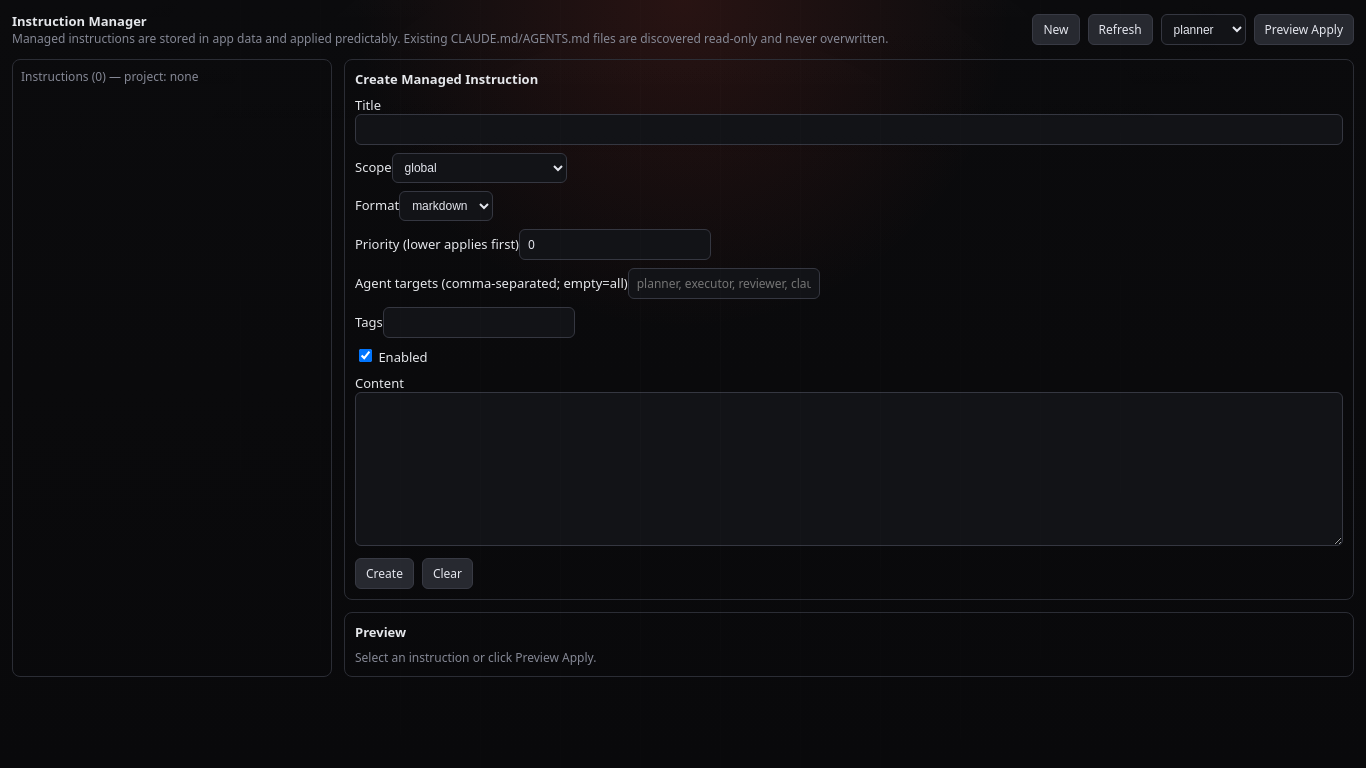
it: InstructionManager › validates required title (backend error surfaced)
Expected: the text "Instructions (0) — project: none" is shown, [21,68,198,85]
Click the button "Create" at [384, 574], box [355,558,414,589]
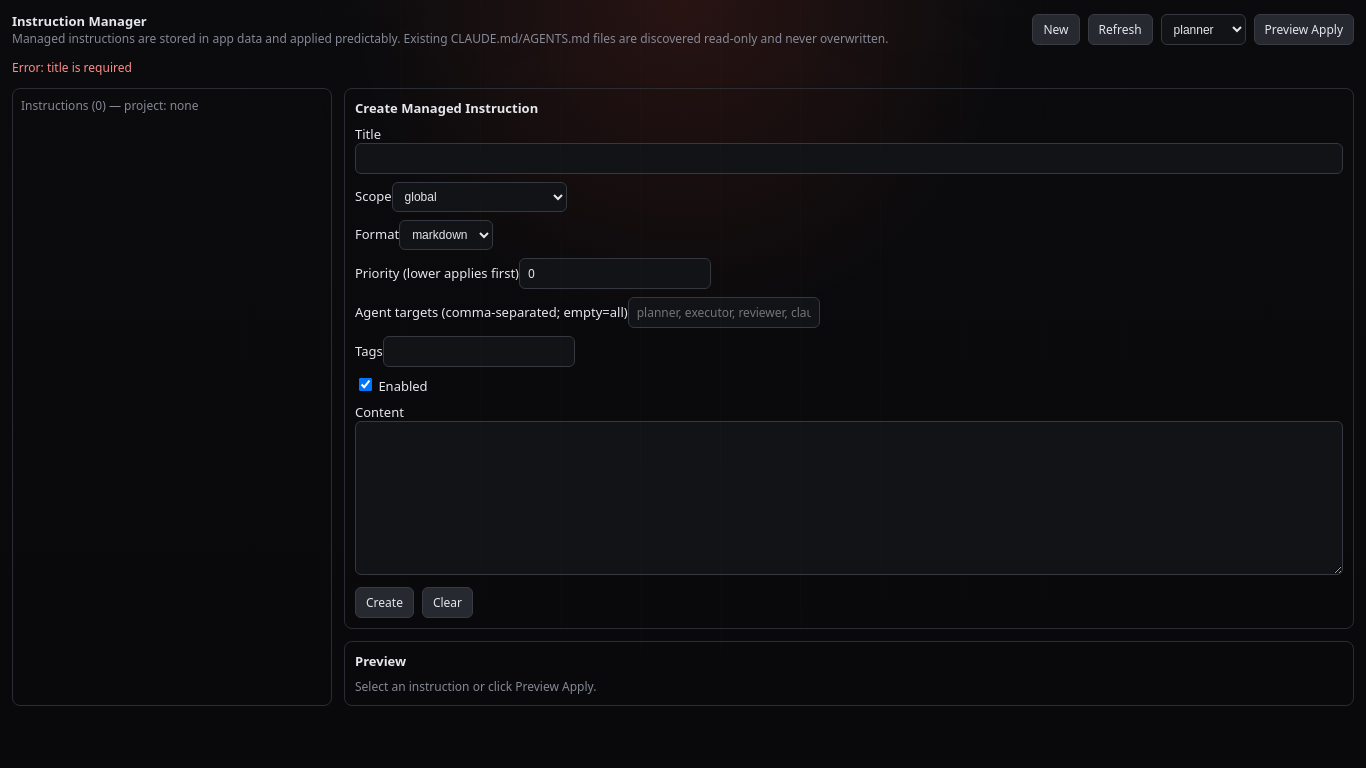
Result: the text "Error: title is required" is shown at [12,59,132,76]
